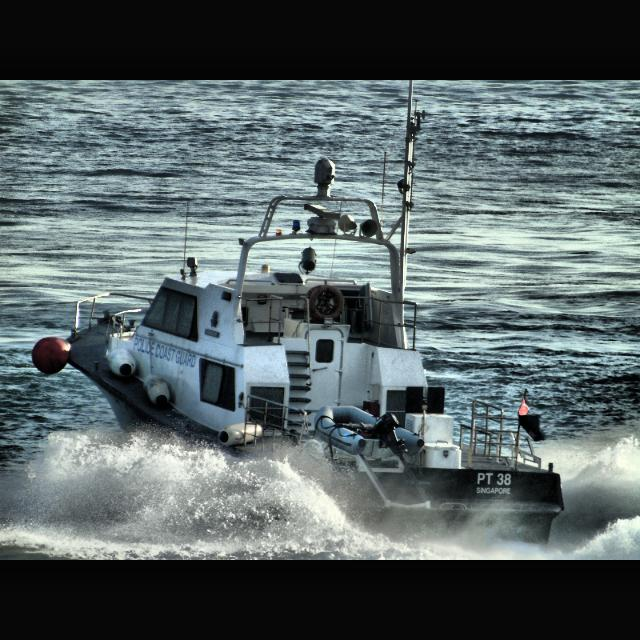patrol_vessel: (61, 153, 570, 549)
